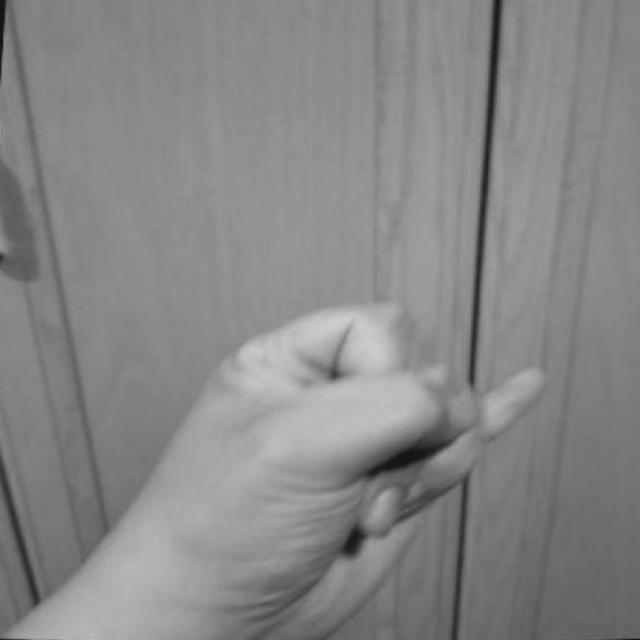J: (101, 294, 556, 640)
